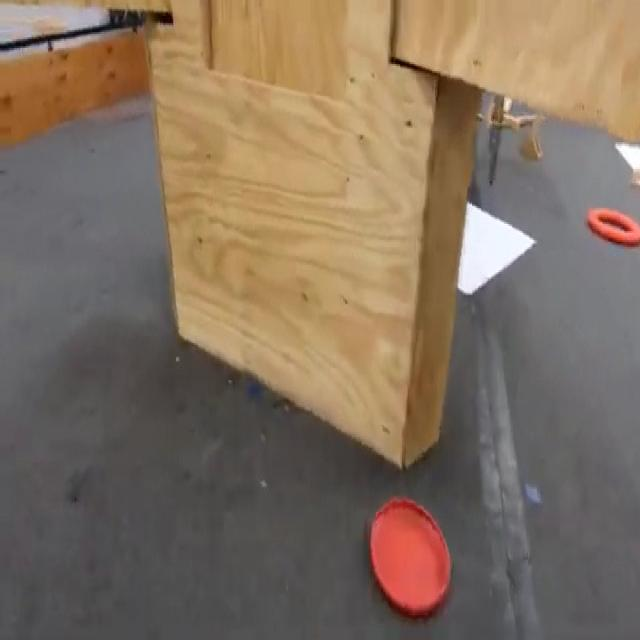note: (584, 206, 640, 248)
